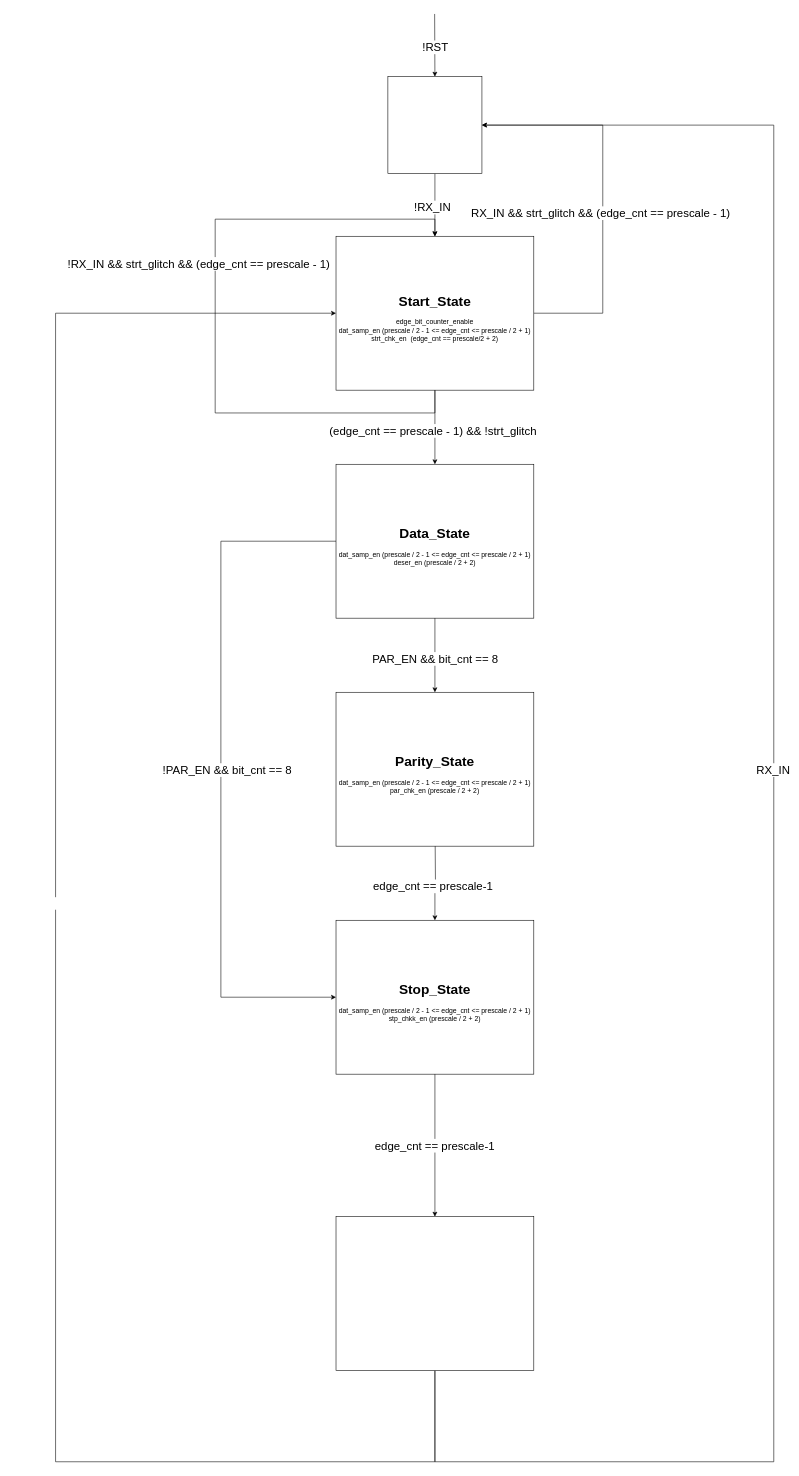
Some shapes in this 799 by 1476 pixel diagram are drawn without their labels. The centre of each missing label's shape, as x and y in pixels:
Idle_State: the point at 434,125
Valid_State data_valid (!parr_err && !stp_err): the point at 434,1293
